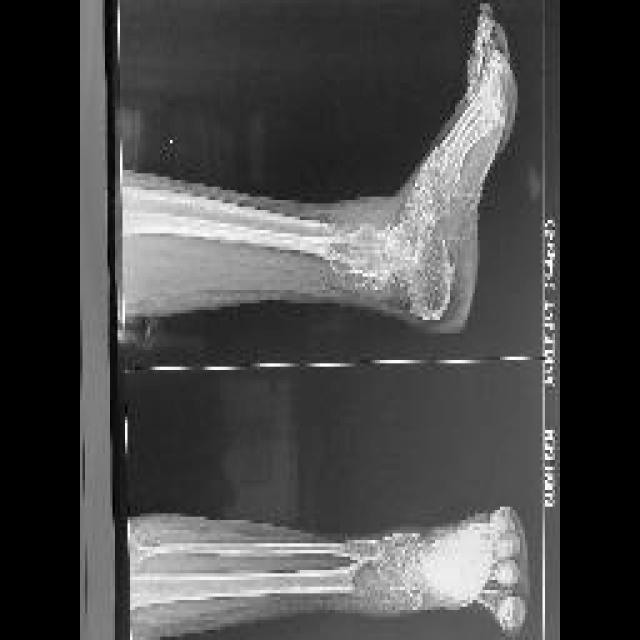bone-cancer: (322, 197, 456, 323), (369, 522, 489, 609)
